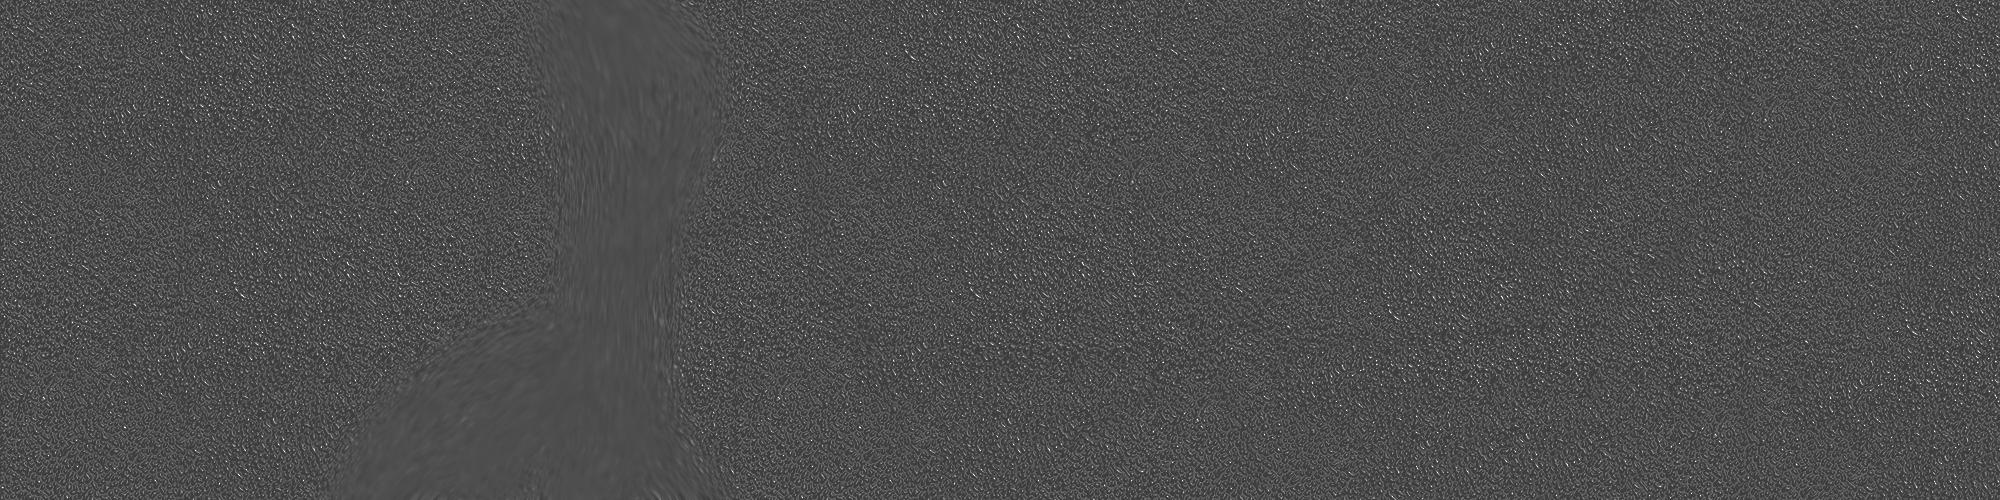Flow_Lines: (429, 11, 724, 500)
